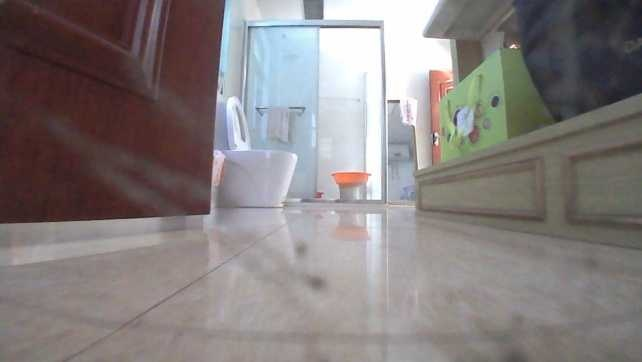toilet: (216, 93, 300, 211)
